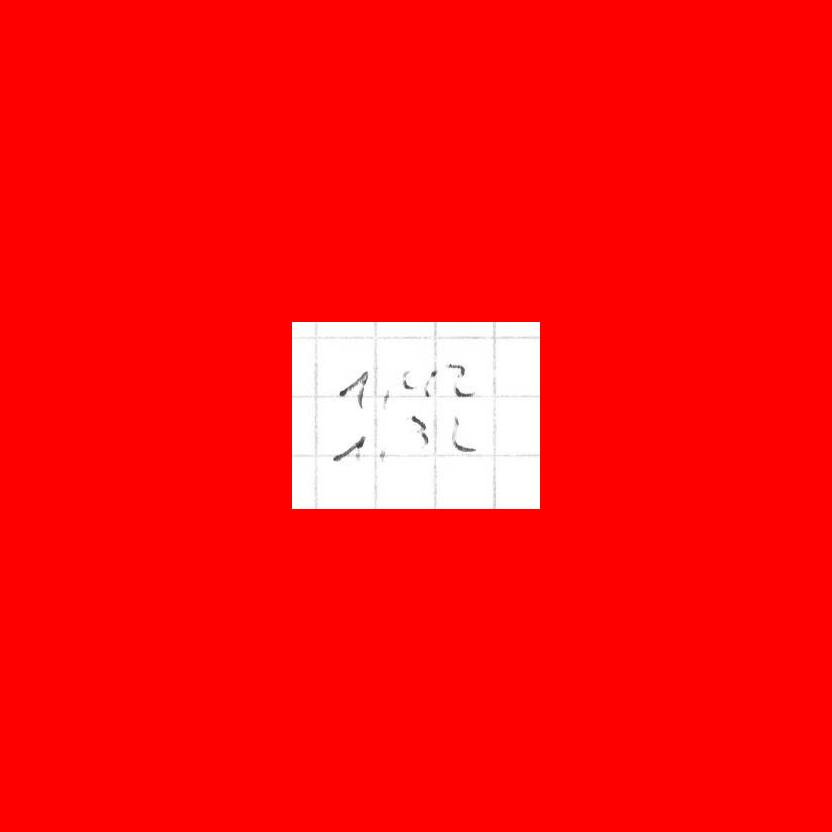Char: (336, 366, 371, 412), (330, 433, 368, 465), (446, 358, 471, 401), (451, 412, 473, 456), (408, 409, 431, 448), (376, 384, 395, 419), (422, 366, 436, 403), (399, 367, 416, 394), (375, 444, 391, 462)
